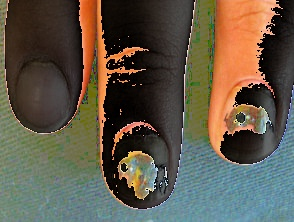SJS-TEN: (93, 89, 194, 222), (209, 65, 293, 188), (1, 41, 79, 85)
